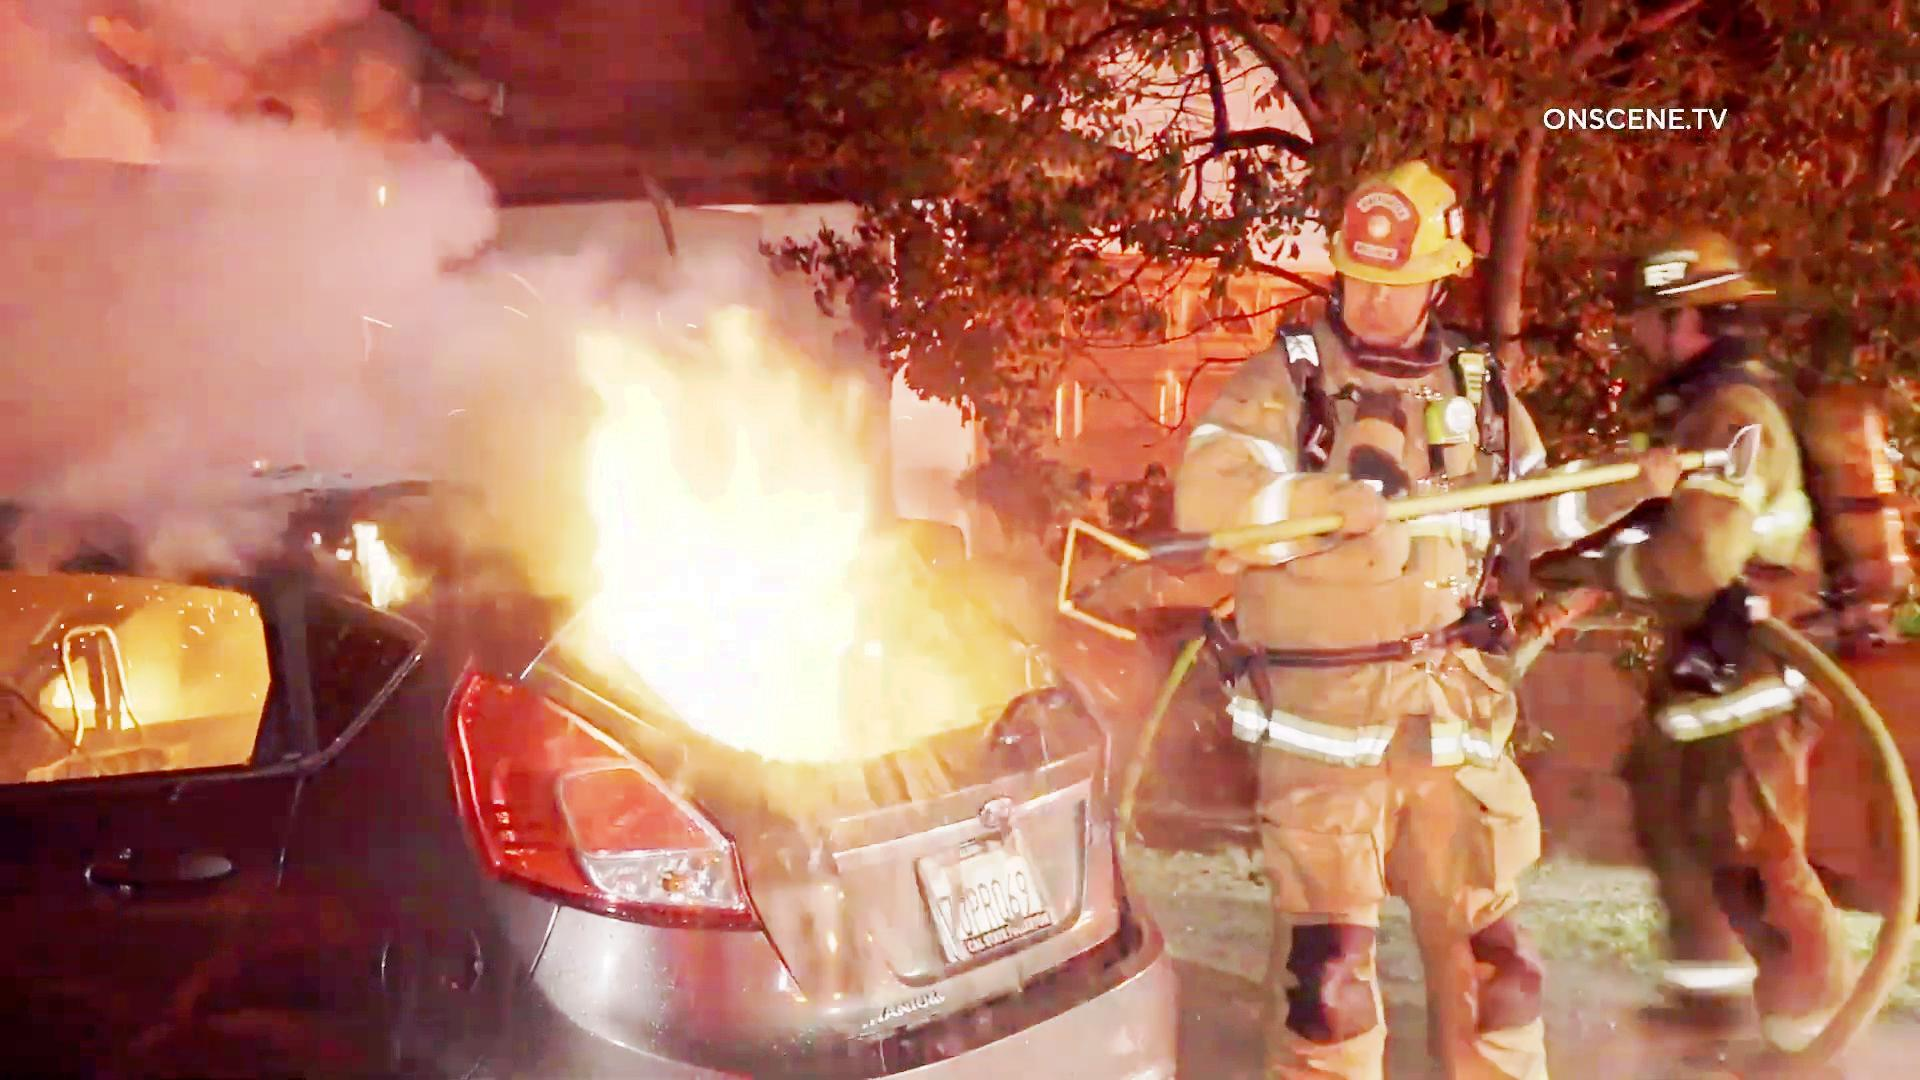fire: (585, 338, 934, 744), (50, 603, 235, 715)
smoke: (21, 5, 547, 452)
